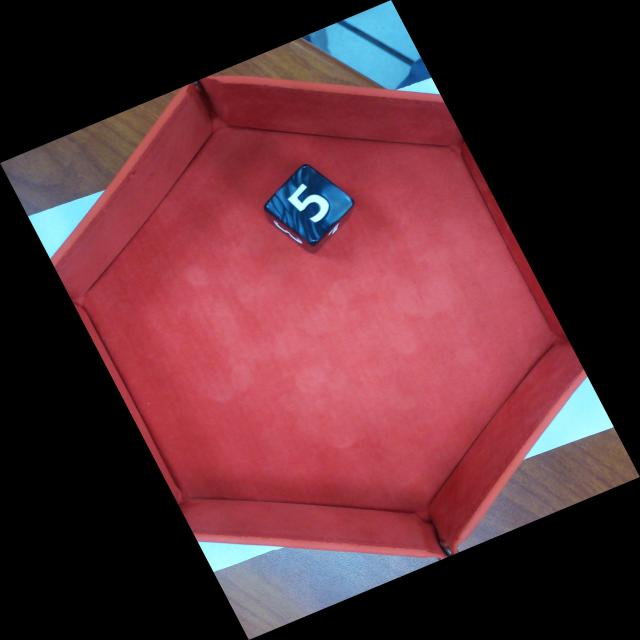dice: (263, 162, 357, 245)
